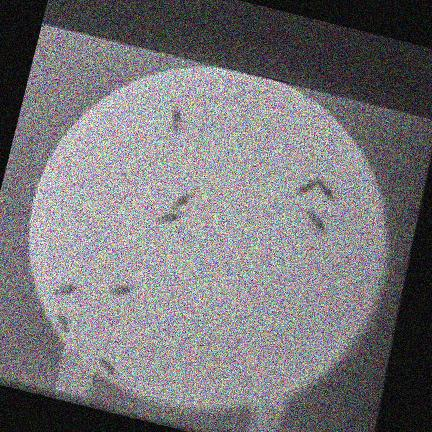fly: (307, 208, 326, 232), (171, 190, 192, 211), (296, 177, 317, 196), (317, 177, 334, 199), (55, 282, 76, 296), (171, 107, 182, 132), (157, 212, 181, 223), (109, 284, 133, 295), (99, 358, 116, 373), (57, 313, 70, 332)
